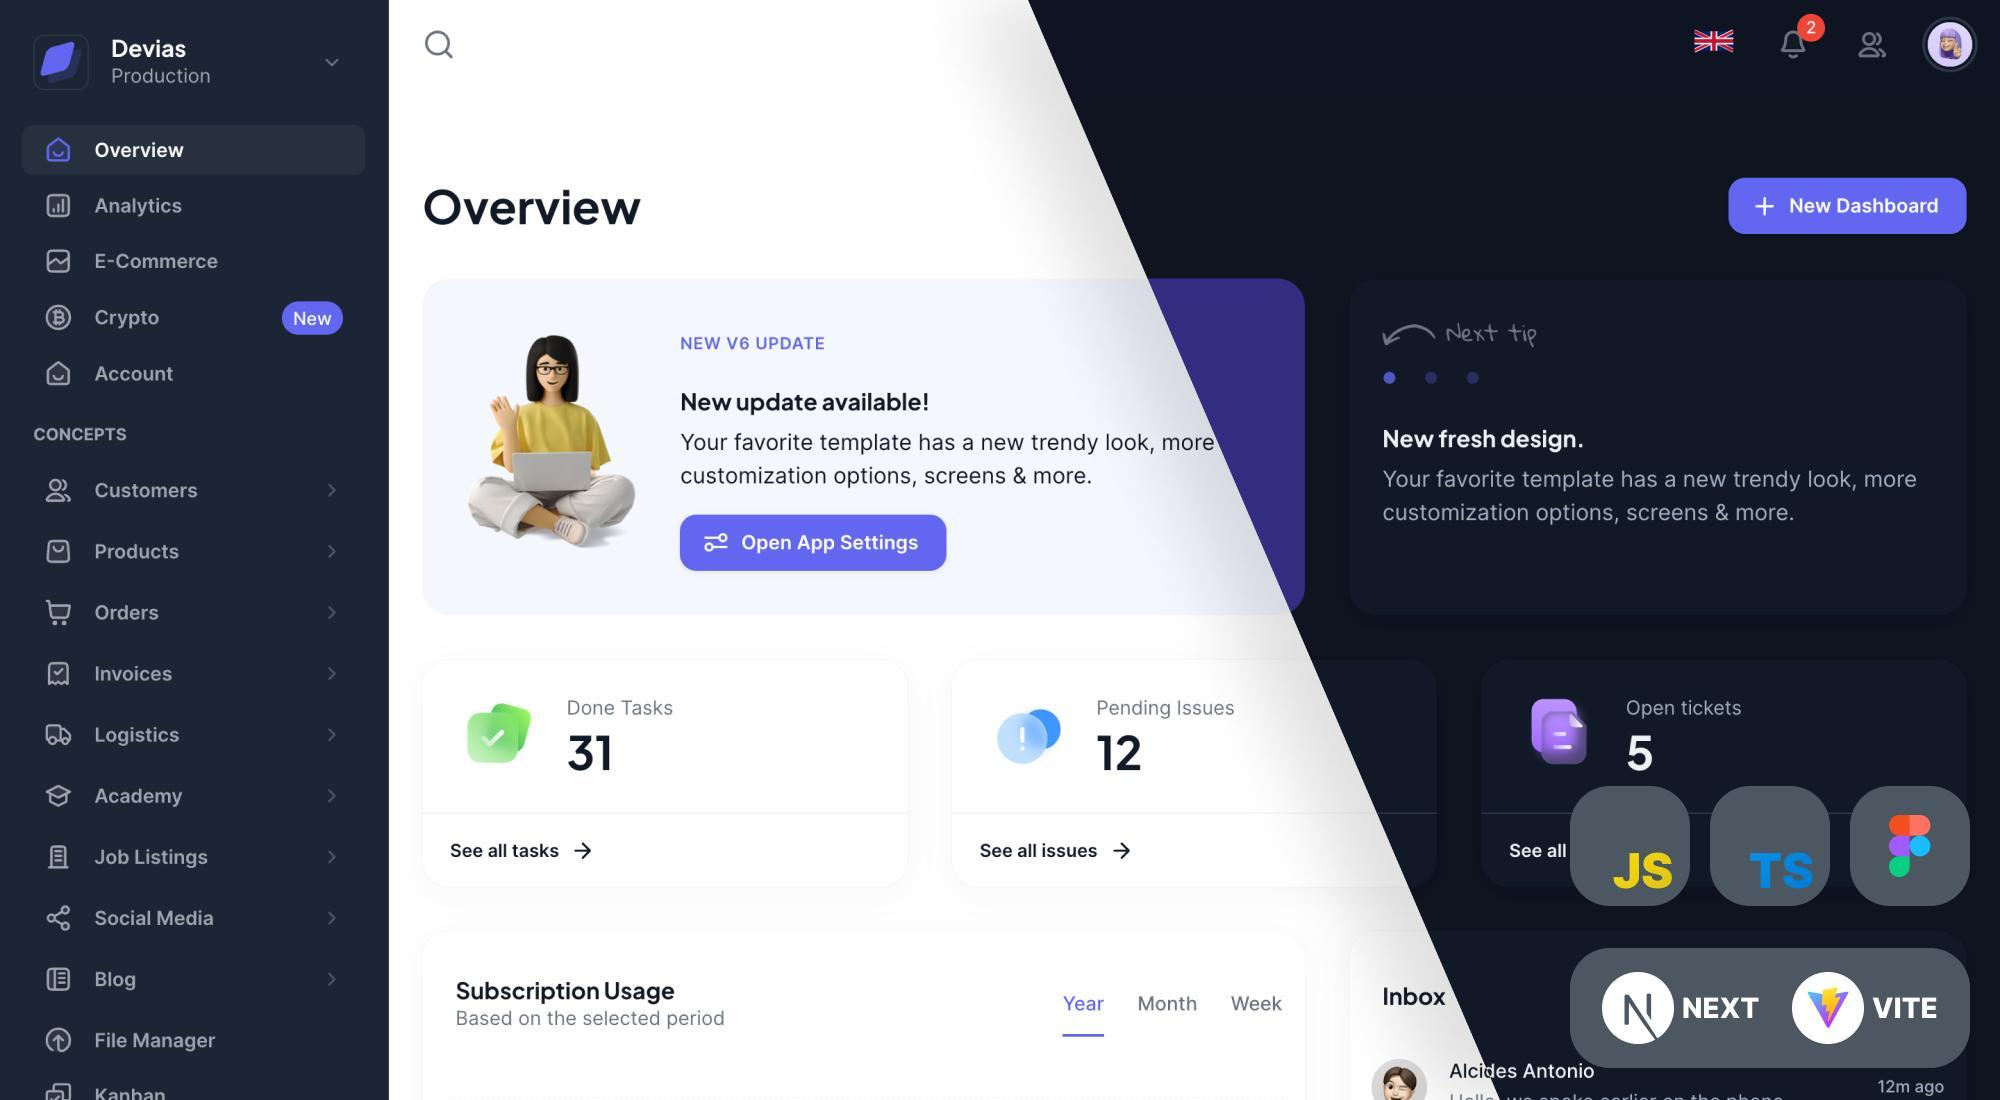button: (678, 513, 947, 573), (1729, 179, 1968, 237)
icon: (421, 30, 460, 64), (46, 305, 74, 335), (46, 596, 73, 627), (46, 475, 73, 507), (320, 47, 347, 79), (1858, 33, 1888, 60), (45, 538, 72, 566), (46, 905, 73, 932), (1781, 31, 1806, 60), (47, 137, 72, 167), (47, 360, 73, 387), (46, 194, 73, 219), (47, 1030, 73, 1055), (46, 967, 72, 993), (47, 248, 72, 275), (47, 844, 70, 872), (45, 723, 73, 746), (46, 784, 72, 807), (46, 662, 72, 685)
label: (106, 28, 223, 92), (93, 848, 210, 871), (95, 1031, 218, 1053), (92, 253, 221, 274), (91, 196, 188, 219), (93, 909, 217, 927), (93, 140, 190, 160), (95, 786, 184, 807), (93, 481, 202, 499), (92, 727, 181, 748), (32, 427, 130, 444), (97, 366, 177, 385), (95, 543, 180, 561), (93, 665, 173, 683), (92, 312, 165, 331), (96, 603, 161, 622), (92, 973, 138, 992)
